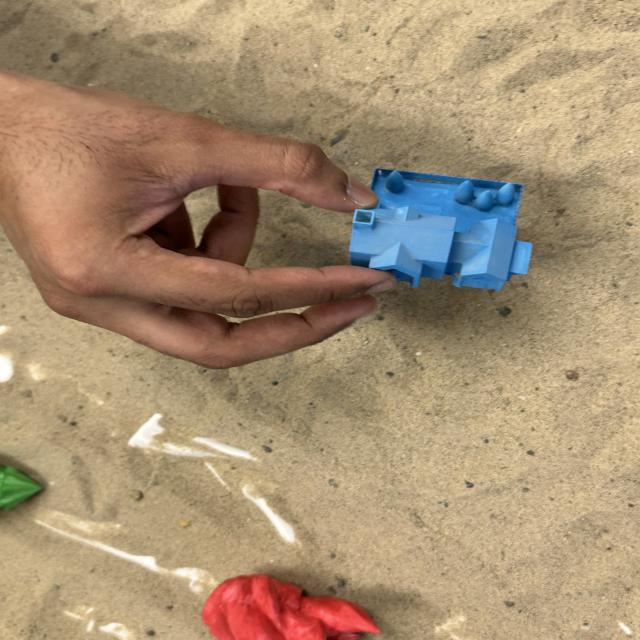fire: (200, 573, 382, 639)
house: (348, 167, 533, 292)
